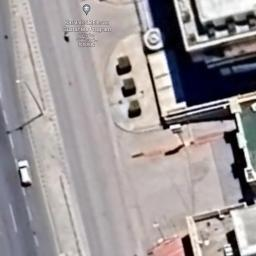SUV: (16, 158, 36, 189)
